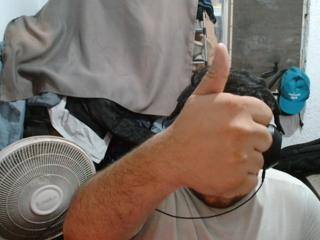Adelante: (166, 36, 278, 205)
